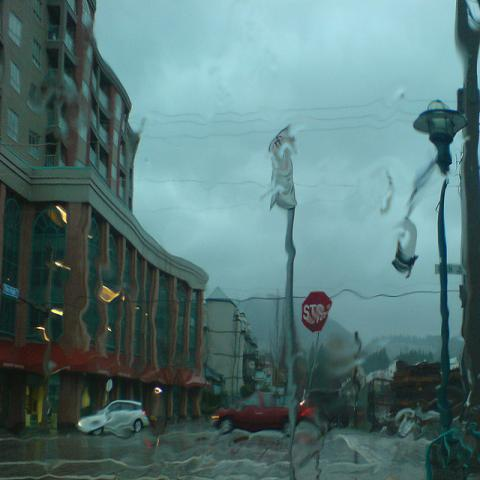car: (213, 393, 316, 435), (75, 399, 151, 439)
